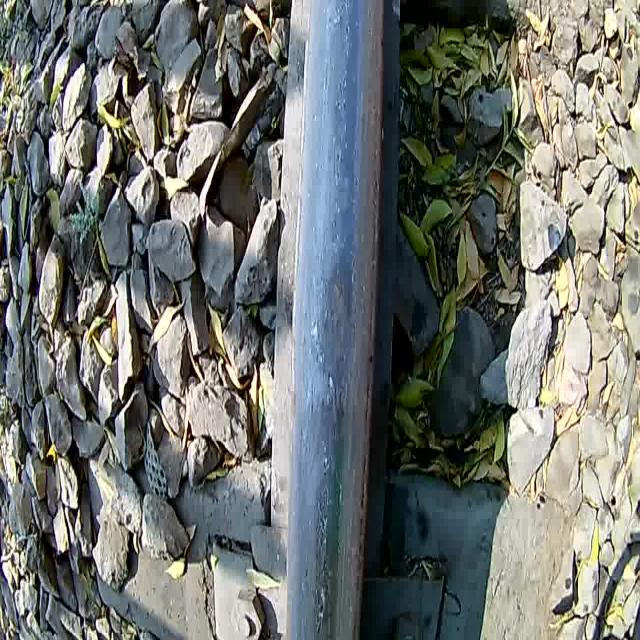Squats: (271, 267, 392, 416)
